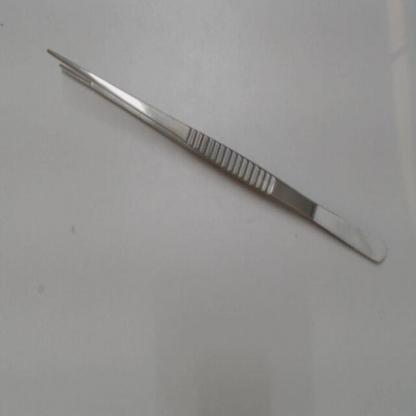DeBakey Dissector: (33, 20, 394, 297)
